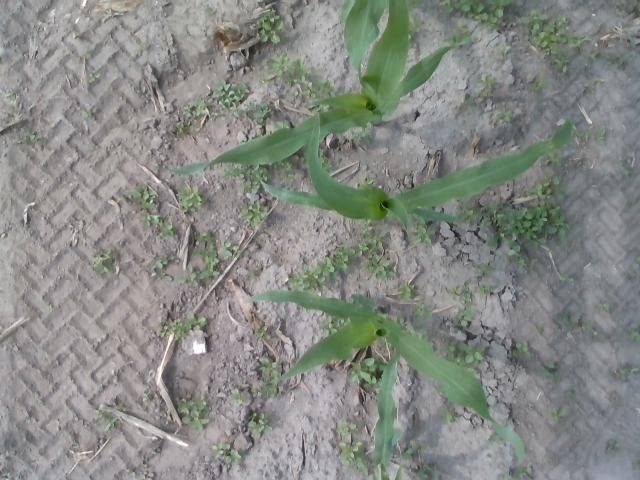Maize: (242, 290, 526, 480), (157, 27, 486, 174), (260, 110, 574, 237), (338, 0, 409, 105), (374, 350, 397, 476), (394, 443, 404, 480)
Weeds: (457, 202, 569, 272), (288, 220, 398, 291), (521, 8, 587, 74), (260, 50, 339, 98), (180, 230, 238, 286), (123, 182, 179, 239), (210, 78, 274, 126), (438, 0, 512, 29), (335, 419, 369, 478), (550, 312, 604, 342), (252, 354, 283, 399), (442, 340, 486, 370), (157, 312, 207, 338), (526, 176, 568, 206), (404, 440, 436, 479), (140, 255, 178, 284), (177, 398, 210, 430), (348, 356, 379, 388), (178, 186, 209, 216), (240, 164, 270, 194), (408, 214, 438, 244), (258, 10, 284, 43), (449, 308, 482, 333), (445, 280, 476, 306), (180, 95, 212, 120), (240, 202, 269, 226), (248, 412, 274, 438), (214, 444, 242, 468), (95, 246, 120, 272), (478, 74, 502, 98), (228, 381, 250, 407), (448, 20, 470, 46), (410, 12, 425, 49), (95, 409, 119, 432), (616, 361, 640, 384), (352, 127, 373, 149), (222, 164, 247, 182), (544, 408, 570, 425), (584, 74, 604, 96), (606, 53, 633, 69), (414, 303, 434, 324), (511, 340, 532, 360), (278, 161, 294, 187), (317, 317, 340, 335), (82, 106, 103, 124), (18, 126, 36, 146), (542, 362, 562, 380), (171, 118, 189, 138), (439, 408, 460, 425), (398, 280, 413, 303), (618, 156, 635, 176), (546, 153, 566, 170), (254, 325, 274, 341), (533, 73, 548, 94), (398, 315, 416, 332), (478, 284, 497, 300), (244, 264, 260, 281), (496, 108, 513, 123), (358, 177, 380, 188), (595, 298, 610, 314), (498, 41, 514, 56), (608, 438, 622, 455), (628, 322, 640, 341), (112, 398, 128, 412), (464, 92, 478, 108), (625, 197, 637, 215), (4, 92, 18, 107), (574, 130, 591, 142), (595, 128, 606, 146), (142, 388, 154, 404), (88, 70, 100, 86), (614, 1, 624, 19), (562, 274, 576, 286), (276, 118, 292, 128), (628, 1, 640, 14), (488, 436, 503, 446), (522, 468, 534, 479), (83, 48, 94, 60), (588, 48, 598, 61), (203, 4, 215, 14), (626, 270, 636, 282), (565, 388, 576, 398), (420, 330, 430, 340), (536, 326, 545, 336), (142, 43, 152, 51), (547, 456, 554, 465), (410, 0, 420, 6), (45, 300, 52, 306), (636, 256, 640, 264)
